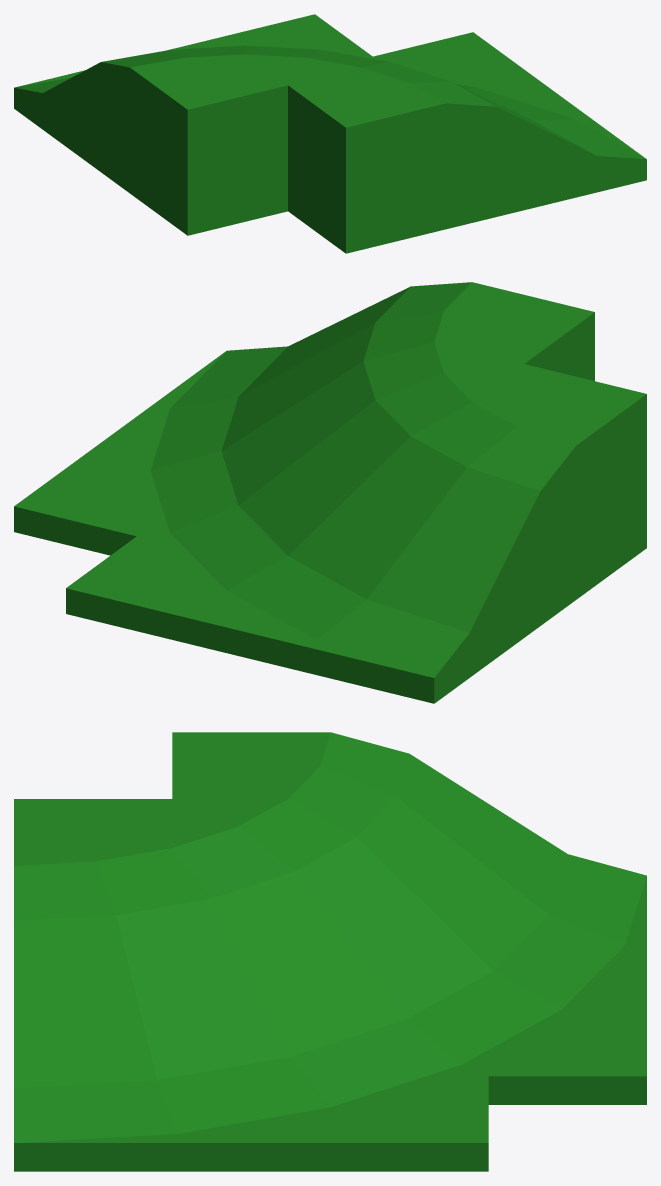
The model's file is grass_hill_corner_outer_x2.obj.
The picture shows the model from 3 angles, top to bottom: view 1: azimuth 30°, elevation 25°; view 2: azimuth 150°, elevation 25°; view 3: azimuth 270°, elevation 25°; orthographic projection. The views are drawn at different scales.
Visible parts, largest first — view 1: grass_hill_corner_outer_x2_Circle.009; view 2: grass_hill_corner_outer_x2_Circle.009; view 3: grass_hill_corner_outer_x2_Circle.009.
Part boxes in pixels (left/top/right/bottom): grass_hill_corner_outer_x2_Circle.009: left=14, top=14, right=646, bottom=253; grass_hill_corner_outer_x2_Circle.009: left=14, top=282, right=646, bottom=703; grass_hill_corner_outer_x2_Circle.009: left=14, top=732, right=646, bottom=1171.
Bounding box in the file's own units: 4 × 1.2 × 4.
